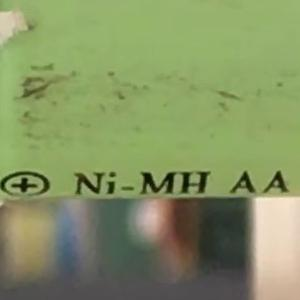NI-MH: (41, 161, 220, 217)
